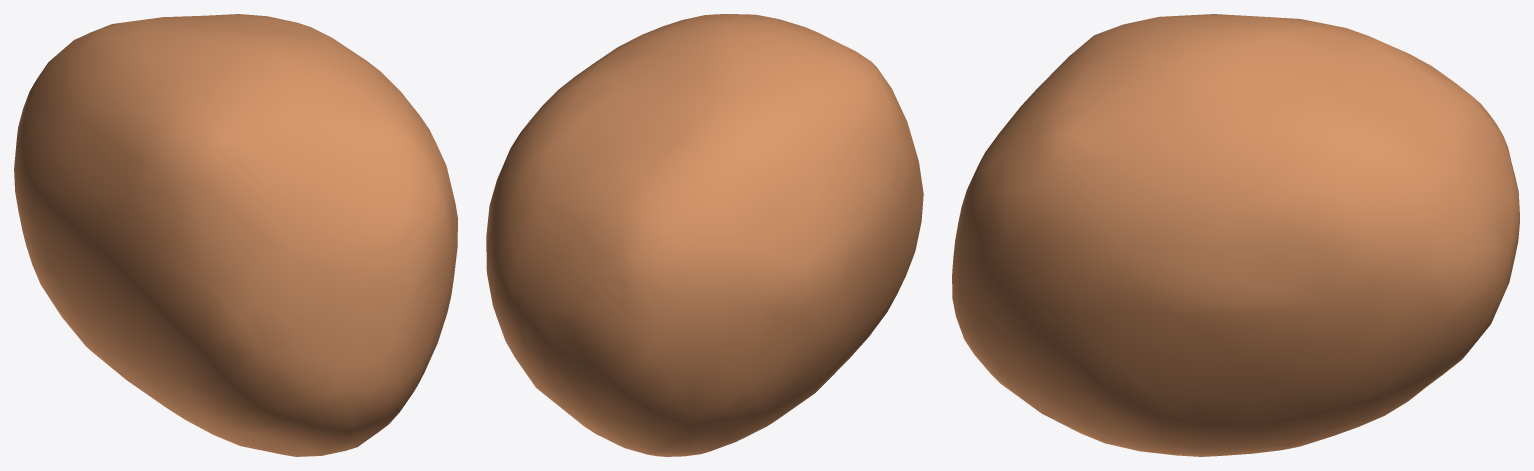
The picture shows the model from 3 angles, left to right: view 1: azimuth 30°, elevation 25°; view 2: azimuth 150°, elevation 25°; view 3: azimuth 270°, elevation 25°; orthographic projection. The views are drawn at different scales.
Visible parts, largest first — view 1: 左侧睾丸; view 2: 左侧睾丸; view 3: 左侧睾丸.
Part boxes in pixels (box(x1,y1,x2,y2)): 左侧睾丸: box(14, 14, 457, 456); 左侧睾丸: box(486, 14, 923, 456); 左侧睾丸: box(952, 14, 1519, 456).
Size of the model in its own units: 0.0311 by 0.0335 by 0.0434.
